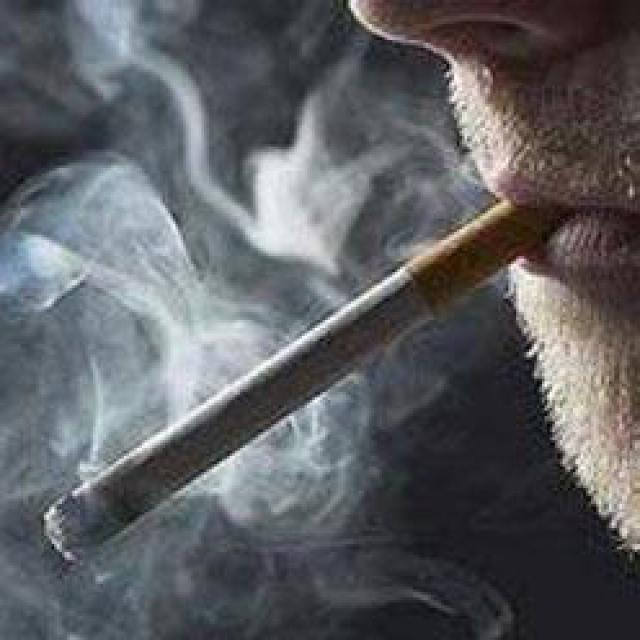smoking: (41, 183, 565, 564)
